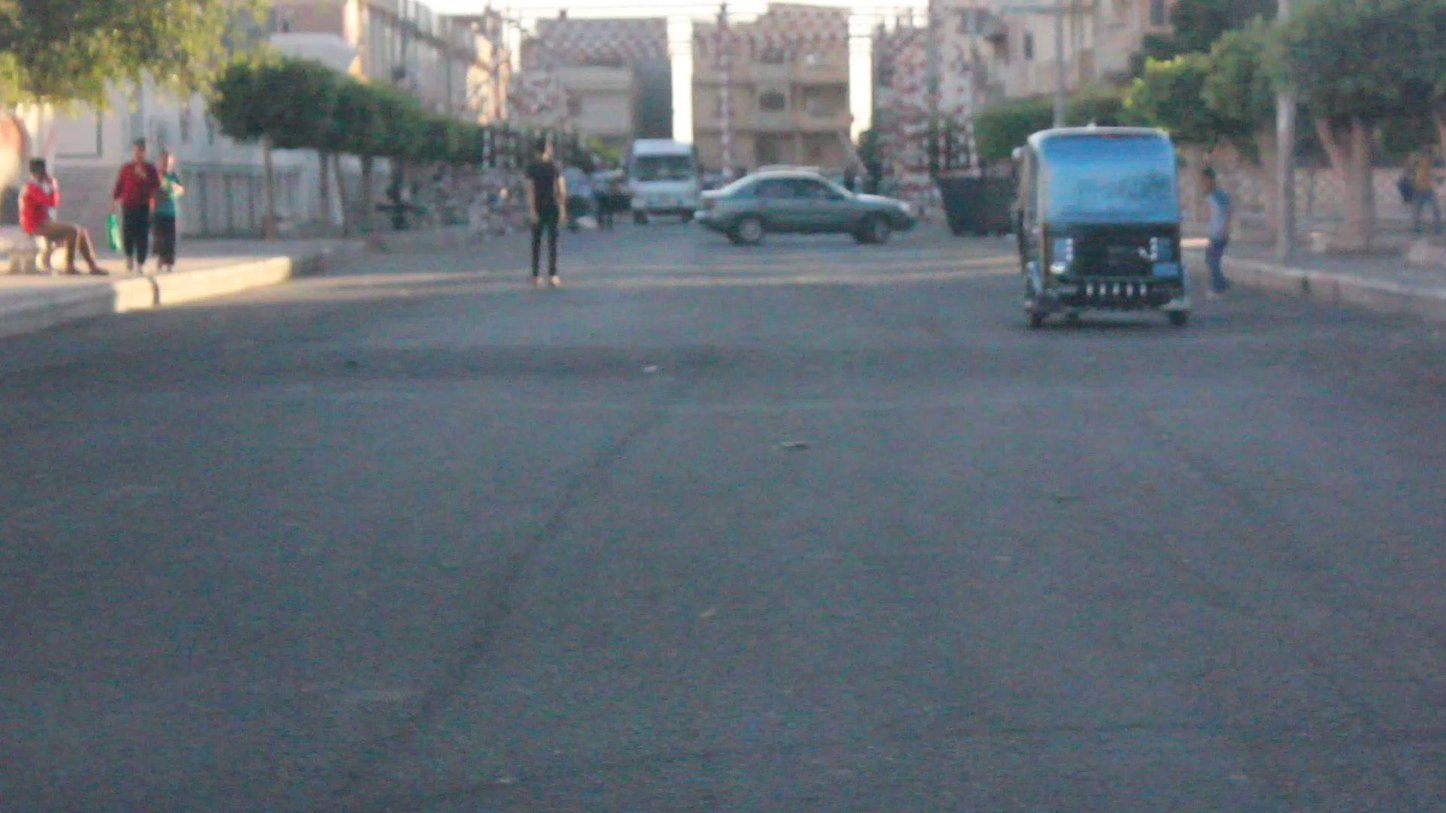Bump: (8, 329, 1446, 412)
